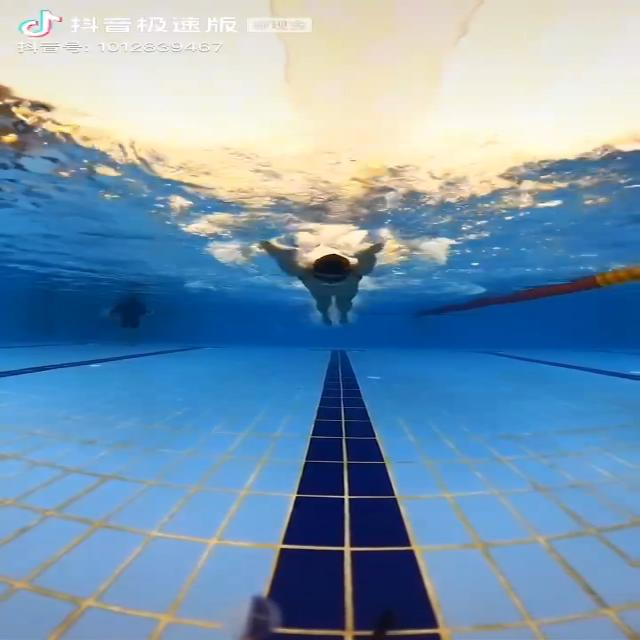Swimming: (252, 236, 404, 328)
